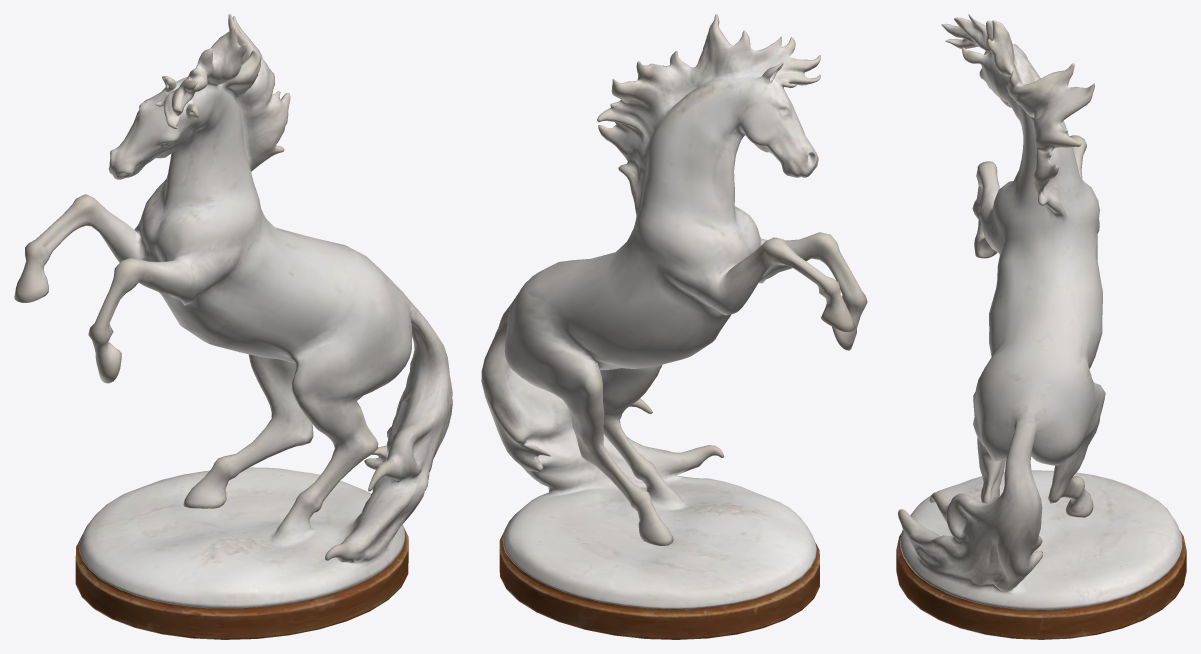
The model's file is horse_statue_01.glb.
3 views of the same model, side by side, from view 1: azimuth 30°, elevation 25°; view 2: azimuth 150°, elevation 25°; view 3: azimuth 270°, elevation 25° (orthographic). The views are drawn at different scales.
Visible parts, largest first — view 1: horse_statue_01; view 2: horse_statue_01; view 3: horse_statue_01.
Boxes of the visible parts, <box> form: horse_statue_01: <box>14,14,452,639</box>; horse_statue_01: <box>481,14,867,639</box>; horse_statue_01: <box>896,14,1186,639</box>.
Bounding box in the file's own units: 0.1638 × 0.22 × 0.1078.
Materials: 1 (1 with a texture image).
